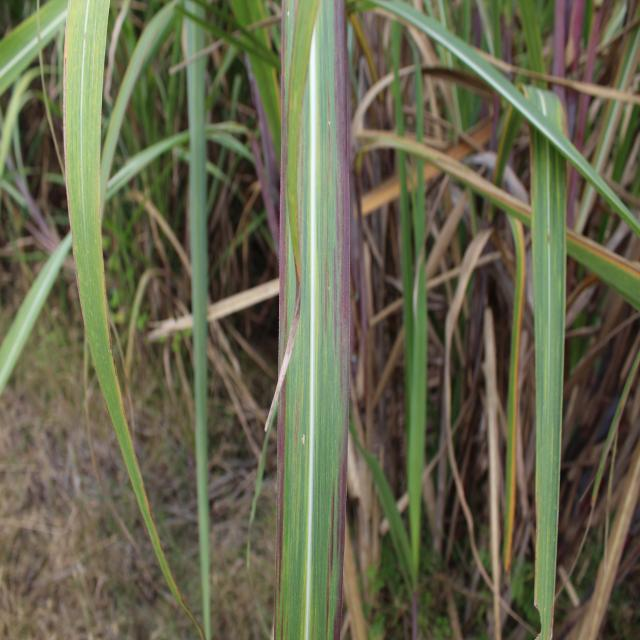Sugarcane: (59, 1, 210, 640), (276, 1, 350, 640), (452, 6, 530, 586), (330, 6, 389, 630), (489, 41, 638, 275), (410, 7, 454, 610), (367, 352, 498, 540), (527, 88, 569, 640), (404, 28, 639, 122), (183, 0, 216, 640), (214, 3, 286, 292), (6, 131, 198, 239), (99, 0, 190, 212), (394, 17, 424, 625), (574, 324, 638, 603), (352, 1, 516, 99), (352, 130, 520, 225), (0, 224, 74, 428), (0, 33, 62, 255), (105, 125, 258, 212), (348, 414, 418, 598), (161, 3, 282, 82), (0, 1, 77, 106), (564, 226, 640, 324), (443, 0, 488, 140), (387, 15, 412, 257), (404, 19, 427, 194), (492, 87, 524, 212), (201, 130, 261, 187)
